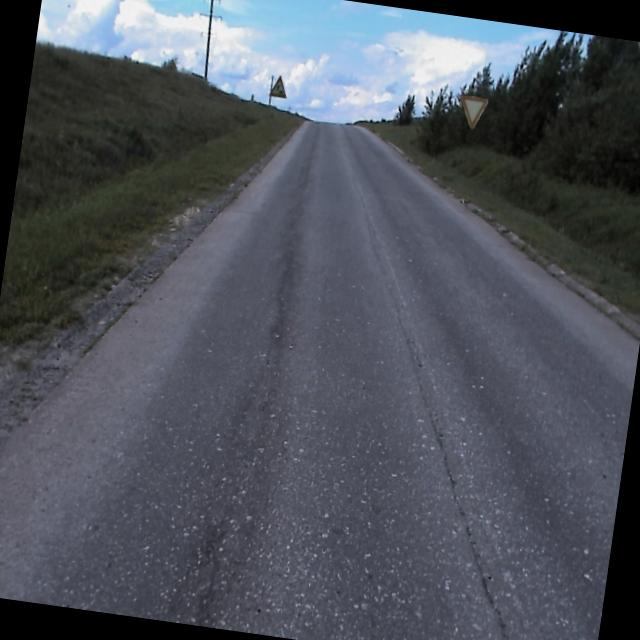road: (0, 122, 640, 640)
